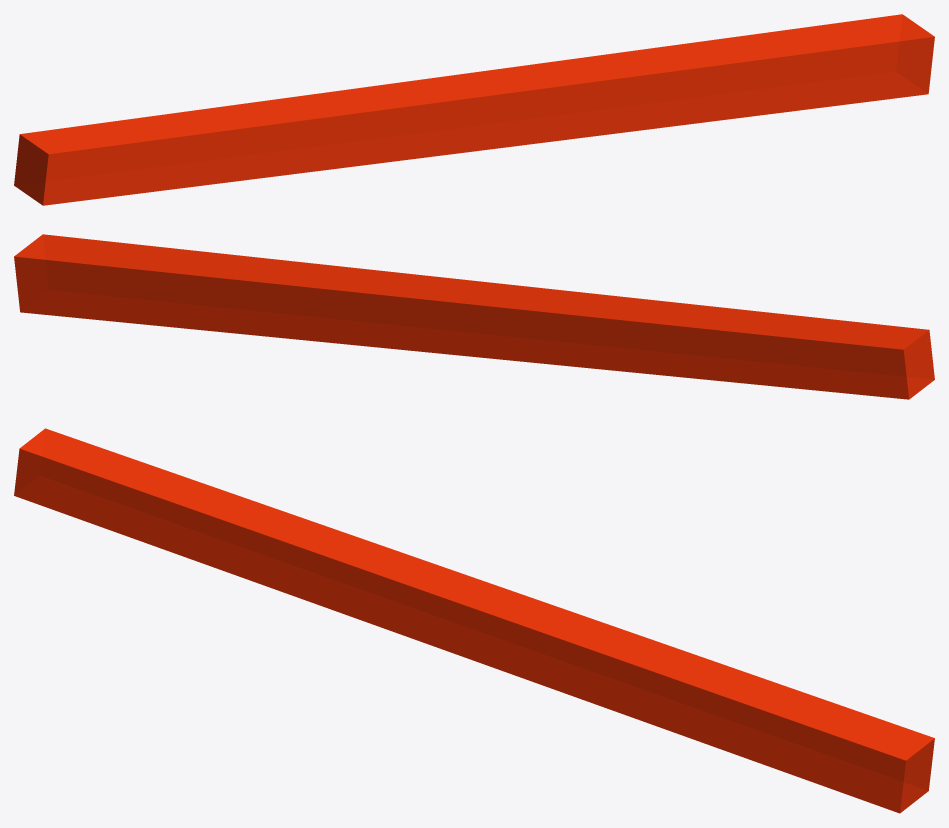
File: Event_420604493_EErechit_51.fbx
The picture shows the model from 3 angles, top to bottom: view 1: azimuth 30°, elevation 25°; view 2: azimuth 150°, elevation 25°; view 3: azimuth 330°, elevation 25°; orthographic projection. The views are drawn at different scales.
Visible parts, largest first — view 1: Model; view 2: Model; view 3: Model.
Part boxes in pixels (<box>): Model: <box>14,14,934,205</box>; Model: <box>14,234,934,399</box>; Model: <box>14,428,934,813</box>.
Bounding box in the file's own units: 1.37 × 0.2414 × 0.1154.
